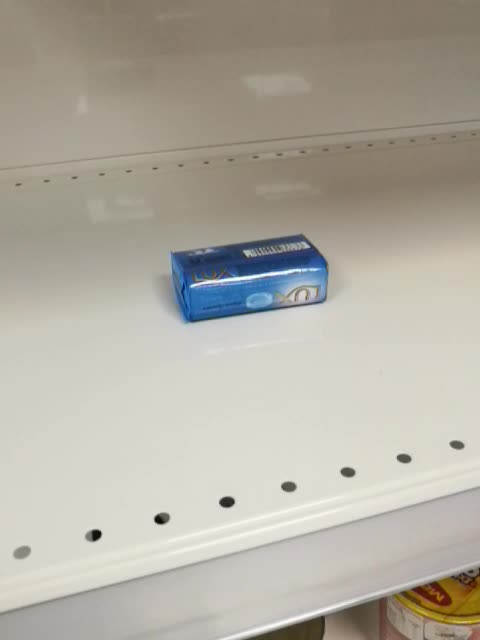soap: (170, 233, 329, 324)
